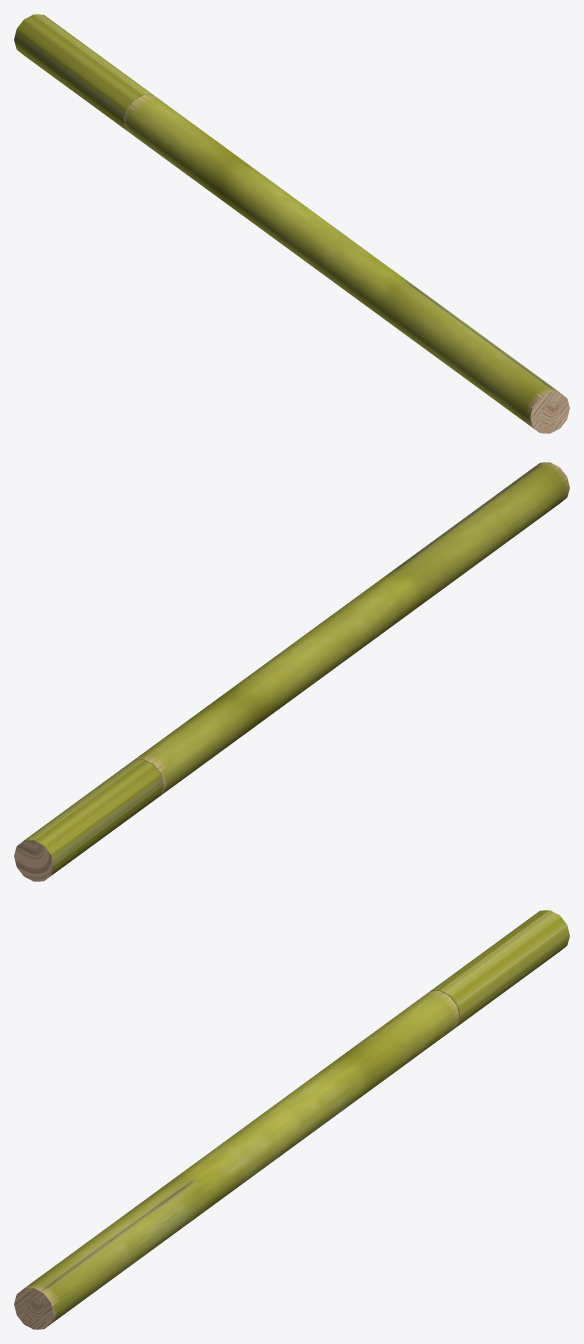
Rendered from Tulup.fbx.
3 views of the same model, one above another, from view 1: azimuth 30°, elevation 25°; view 2: azimuth 150°, elevation 25°; view 3: azimuth 330°, elevation 25° (orthographic).
Visible parts, largest first — view 1: Cylinder.001; view 2: Cylinder.001; view 3: Cylinder.001.
Boxes of the visible parts, x1,y1,x2,y2 form: Cylinder.001: (14, 14, 569, 433); Cylinder.001: (14, 462, 569, 881); Cylinder.001: (14, 910, 569, 1329).
Bounding box in the file's own units: 49.02 × 49.02 × 1102.
Materials: 1 (1 with a texture image).
